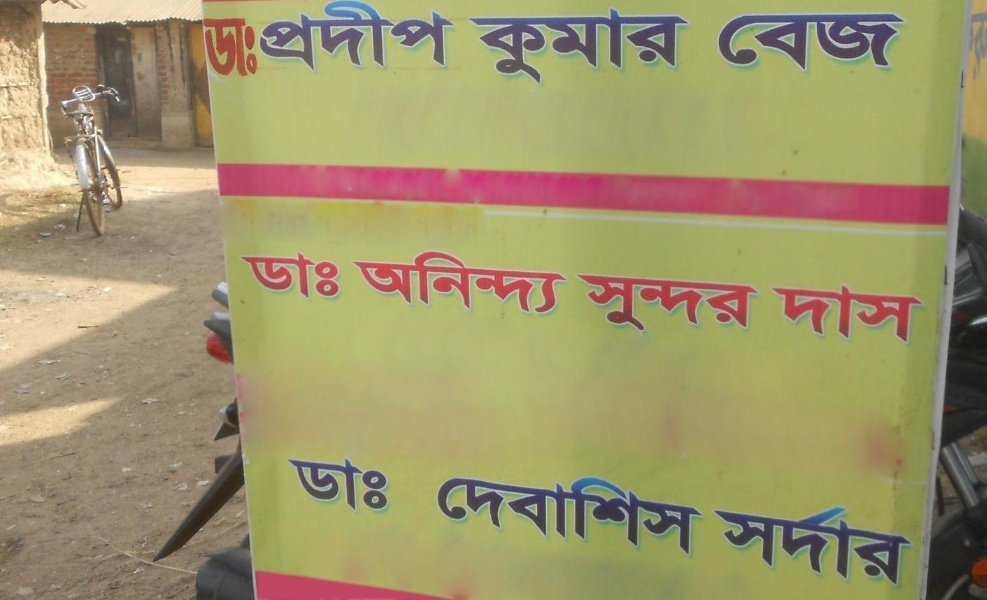text: (897, 497, 913, 587), (721, 497, 736, 587), (737, 497, 752, 587), (753, 497, 768, 587), (769, 497, 784, 587), (785, 497, 800, 587), (801, 497, 816, 587), (817, 497, 832, 587), (833, 497, 848, 587), (849, 497, 864, 587), (865, 497, 880, 587), (881, 497, 896, 587), (449, 469, 464, 558), (465, 469, 480, 558), (481, 469, 496, 558), (497, 469, 512, 558), (513, 469, 528, 558), (529, 469, 544, 558), (545, 469, 560, 558), (561, 469, 576, 558), (577, 469, 592, 558), (593, 469, 608, 558), (609, 469, 624, 558), (625, 469, 640, 558), (641, 469, 656, 558), (657, 469, 672, 558), (673, 469, 688, 558), (689, 469, 704, 558), (481, 7, 496, 87), (497, 7, 512, 87), (513, 7, 528, 87), (529, 7, 544, 87), (545, 7, 560, 87), (561, 7, 576, 87), (577, 7, 592, 87), (593, 7, 608, 87), (609, 7, 624, 87), (625, 7, 640, 87), (641, 7, 656, 87), (657, 7, 672, 87), (673, 7, 688, 87), (257, 1, 272, 72), (273, 1, 288, 72), (289, 1, 304, 72), (305, 1, 320, 72), (321, 1, 336, 72), (337, 1, 352, 72), (353, 1, 368, 72), (369, 1, 384, 72), (385, 1, 400, 72), (401, 1, 416, 72), (417, 1, 432, 72), (433, 1, 448, 72), (353, 249, 368, 314), (369, 249, 384, 314), (385, 249, 400, 314), (401, 249, 416, 314), (417, 249, 432, 314), (433, 249, 448, 314), (449, 249, 464, 314), (465, 249, 480, 314), (481, 249, 496, 314), (497, 249, 512, 314), (513, 249, 528, 314), (529, 249, 544, 314), (545, 249, 560, 314), (468, 7, 480, 87), (577, 271, 592, 335), (593, 271, 608, 335), (609, 271, 624, 335), (625, 271, 640, 335), (641, 271, 656, 335), (657, 271, 672, 335), (673, 271, 688, 335), (689, 271, 704, 335), (705, 271, 720, 335), (721, 271, 736, 335), (737, 271, 752, 335), (209, 17, 224, 78), (225, 17, 240, 78), (241, 17, 256, 78), (785, 282, 800, 343), (801, 282, 816, 343), (817, 282, 832, 343), (833, 282, 848, 343), (849, 282, 864, 343), (865, 282, 880, 343), (881, 282, 896, 343), (897, 282, 912, 343), (289, 455, 304, 516), (305, 455, 320, 516), (321, 455, 336, 516), (337, 455, 352, 516), (353, 455, 368, 516), (369, 455, 384, 516), (438, 469, 448, 558), (721, 14, 736, 71), (737, 14, 752, 71), (753, 14, 768, 71), (769, 14, 784, 71), (785, 14, 800, 71), (801, 14, 816, 71), (817, 14, 832, 71), (833, 14, 848, 71), (849, 14, 864, 71), (865, 14, 880, 71), (881, 14, 896, 71), (771, 282, 784, 343), (241, 249, 256, 300), (257, 249, 272, 300), (273, 249, 288, 300), (289, 249, 304, 300), (305, 249, 320, 300), (321, 249, 336, 300), (913, 282, 924, 343), (897, 14, 908, 71), (449, 1, 457, 72), (714, 497, 720, 587), (385, 455, 392, 516), (753, 271, 759, 335), (561, 249, 566, 314), (337, 249, 341, 300), (205, 17, 208, 78), (717, 14, 720, 71), (689, 7, 691, 87), (257, 17, 259, 78), (705, 469, 706, 558), (287, 455, 288, 516)
